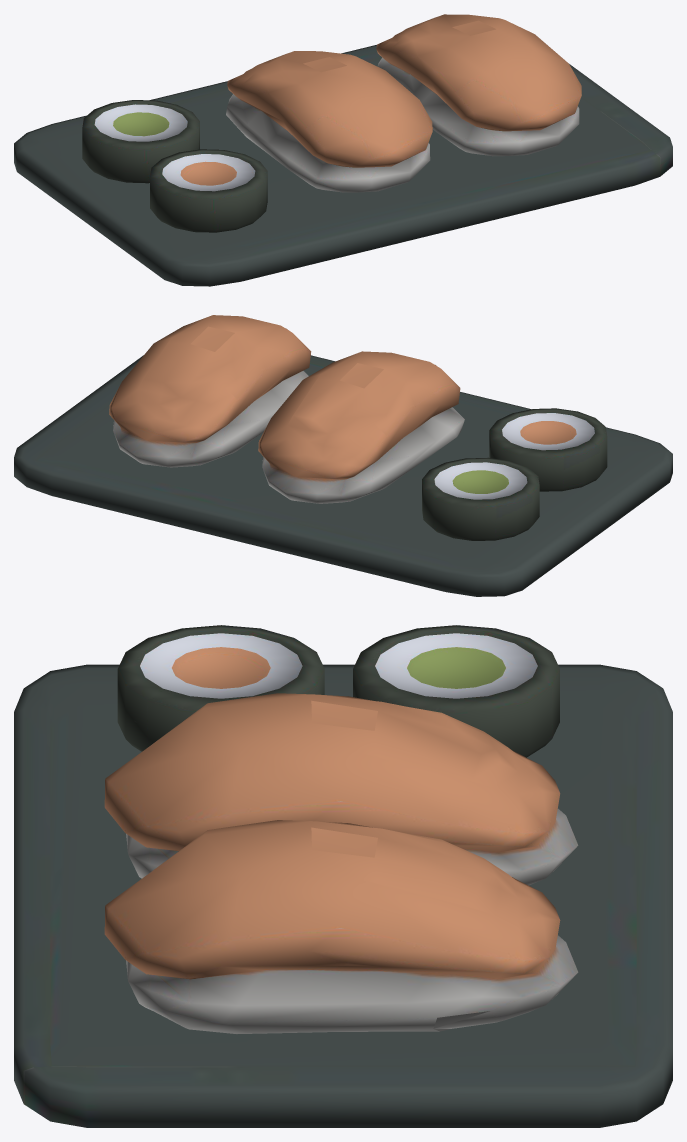
File: sushi.fbx
The picture shows the model from 3 angles, top to bottom: view 1: azimuth 30°, elevation 25°; view 2: azimuth 150°, elevation 25°; view 3: azimuth 270°, elevation 25°; orthographic projection. The views are drawn at different scales.
Visible parts, largest first — view 1: sushiplate; view 2: sushiplate; view 3: sushiplate.
Part boxes in pixels (bbox=[...]): sushiplate: bbox=[14, 14, 672, 286]; sushiplate: bbox=[14, 315, 672, 596]; sushiplate: bbox=[14, 625, 672, 1127].
Size of the model in its own units: 305 by 198 by 62.95.
1 material, 1 textured.
